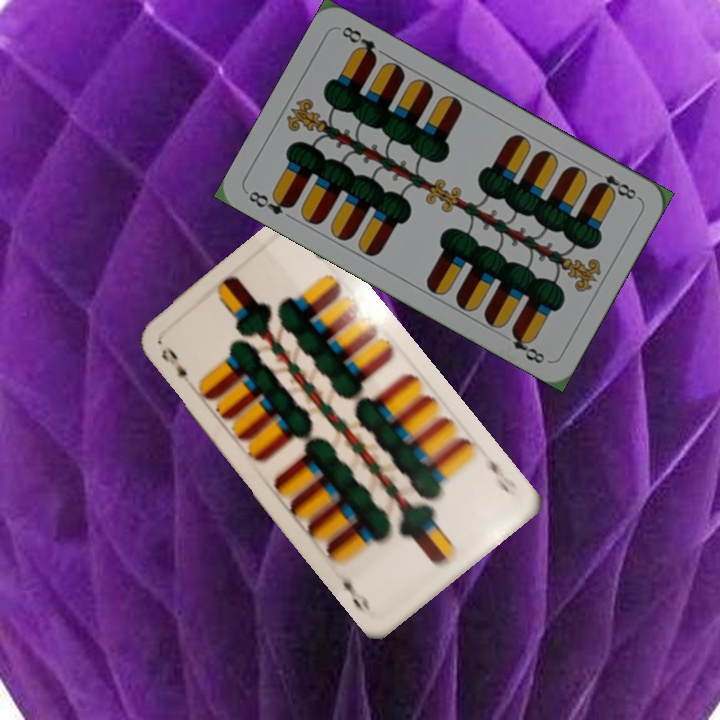E8: (591, 170, 642, 203), (244, 187, 297, 218)
E9: (482, 449, 521, 499), (157, 342, 190, 380)
